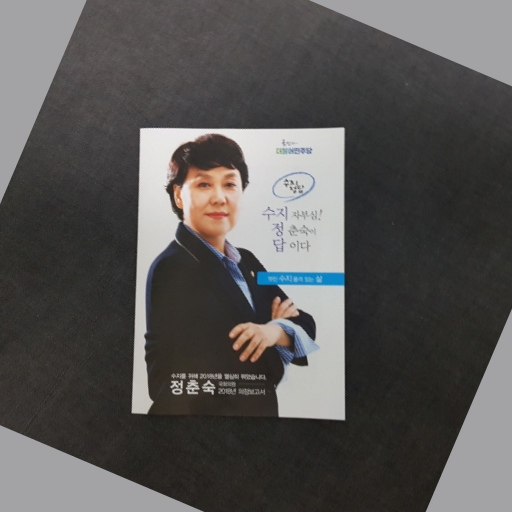Paper_2: (128, 121, 361, 440)
